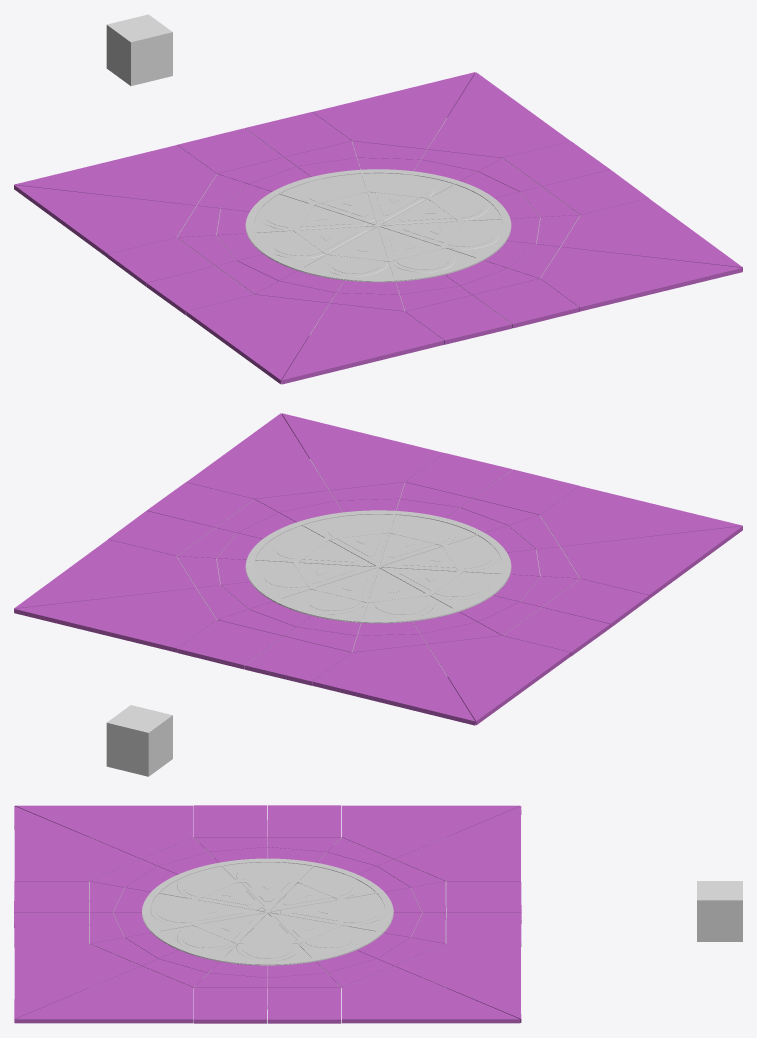
Rendered from Apple_Core_Floor.fbx.
3 views of the same model, one above another, from view 1: azimuth 30°, elevation 25°; view 2: azimuth 150°, elevation 25°; view 3: azimuth 270°, elevation 25° (orthographic). The views are drawn at different scales.
Visible parts, largest first — view 1: Circle.003, Circle.001, Circle.037, Circle.027, Circle.005, Circle.004, Circle.002, Circle.006, Cube, Circle.019, Circle.051, Circle.053 (+1 smaller); view 2: Circle.003, Circle.001, Circle.037, Circle.002, Circle.004, Circle.027, Circle.005, Circle.006, Circle.019, Cube, Circle.051, Circle.053 (+2 smaller); view 3: Circle.003, Circle.001, Circle.037, Circle.006, Circle.027, Circle.004, Circle.002, Circle.005, Circle.019, Circle.051, Cube, Circle.053 (+2 smaller).
Part boxes in pixels (box(x1,y1,x2,y2)): Circle.003: box(14, 72, 742, 384); Circle.001: box(177, 141, 579, 311); Circle.037: box(264, 177, 492, 273); Circle.027: box(256, 174, 498, 276); Circle.005: box(405, 279, 579, 344); Circle.004: box(108, 237, 253, 315); Circle.002: box(177, 112, 351, 173); Circle.006: box(503, 141, 648, 214); Cube: box(106, 14, 172, 85); Circle.019: box(245, 173, 511, 282); Circle.051: box(246, 169, 510, 281); Circle.053: box(293, 189, 464, 261); Circle.003: box(14, 413, 742, 725); Circle.001: box(177, 482, 579, 652); Circle.037: box(264, 518, 492, 614); Circle.002: box(177, 620, 351, 685); Circle.004: box(503, 578, 648, 656); Circle.027: box(257, 516, 499, 617); Circle.005: box(405, 453, 579, 514); Circle.006: box(108, 482, 253, 555); Circle.019: box(245, 514, 511, 623); Cube: box(106, 705, 172, 776); Circle.051: box(246, 510, 510, 622); Circle.053: box(292, 530, 463, 602); Circle.003: box(14, 805, 521, 1023); Circle.001: box(89, 837, 445, 987); Circle.037: box(156, 864, 378, 958); Circle.006: box(194, 988, 341, 1023); Circle.027: box(150, 862, 385, 961); Circle.004: box(194, 805, 341, 837); Circle.002: box(446, 881, 521, 946); Circle.005: box(14, 881, 89, 947); Circle.019: box(142, 862, 393, 965); Circle.051: box(142, 858, 393, 964); Cube: box(697, 881, 742, 941); Circle.053: box(192, 879, 343, 944).
Size of the model in its own units: 741 by 67.03 by 1065.
